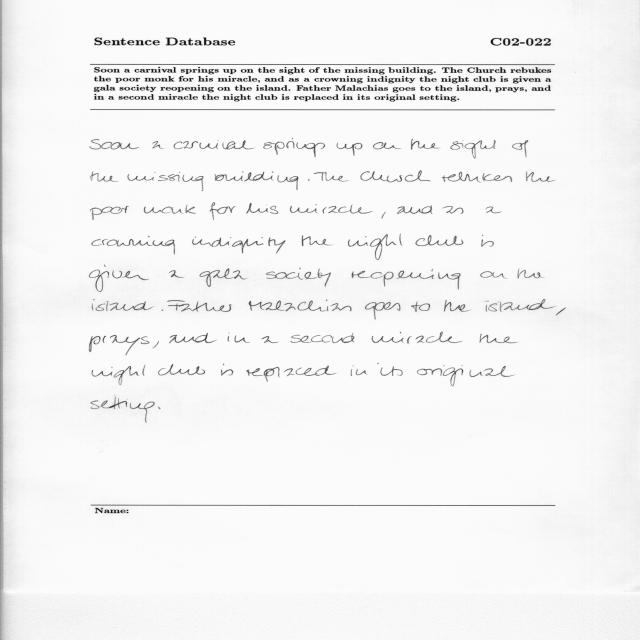word: (352, 269, 461, 290), (417, 365, 514, 386), (91, 397, 155, 423), (89, 265, 149, 292), (192, 237, 286, 254), (215, 171, 299, 190), (92, 236, 175, 254), (128, 172, 204, 191), (247, 366, 337, 382), (348, 234, 402, 260), (266, 268, 331, 288), (90, 335, 150, 356), (249, 300, 352, 312), (263, 139, 325, 158), (372, 332, 463, 344), (92, 365, 146, 385), (484, 299, 556, 312), (200, 268, 248, 287), (290, 204, 372, 214), (451, 140, 496, 158), (174, 140, 254, 150), (167, 300, 232, 312), (361, 171, 431, 182), (442, 172, 512, 183), (92, 300, 154, 311), (291, 333, 355, 343), (365, 302, 400, 320), (90, 139, 139, 150), (91, 206, 129, 220), (416, 235, 464, 246), (158, 364, 205, 375), (169, 333, 217, 343), (144, 205, 196, 214), (209, 203, 236, 220), (480, 334, 518, 344), (246, 203, 278, 214), (314, 172, 348, 182), (337, 143, 363, 156), (377, 363, 403, 376), (302, 236, 332, 247), (397, 205, 433, 214), (526, 171, 555, 182), (444, 300, 470, 312), (411, 139, 439, 150), (91, 171, 119, 182), (512, 140, 528, 158), (517, 269, 544, 279), (227, 333, 250, 343), (480, 271, 507, 279), (411, 301, 430, 312), (373, 142, 401, 149), (351, 366, 368, 377), (442, 206, 464, 214), (481, 235, 494, 247), (221, 363, 233, 376), (262, 336, 279, 343), (169, 270, 183, 278), (486, 207, 501, 214), (152, 141, 164, 149), (556, 308, 566, 316), (153, 341, 159, 348), (382, 212, 386, 219), (158, 407, 161, 409), (308, 179, 310, 181), (162, 309, 164, 311)
